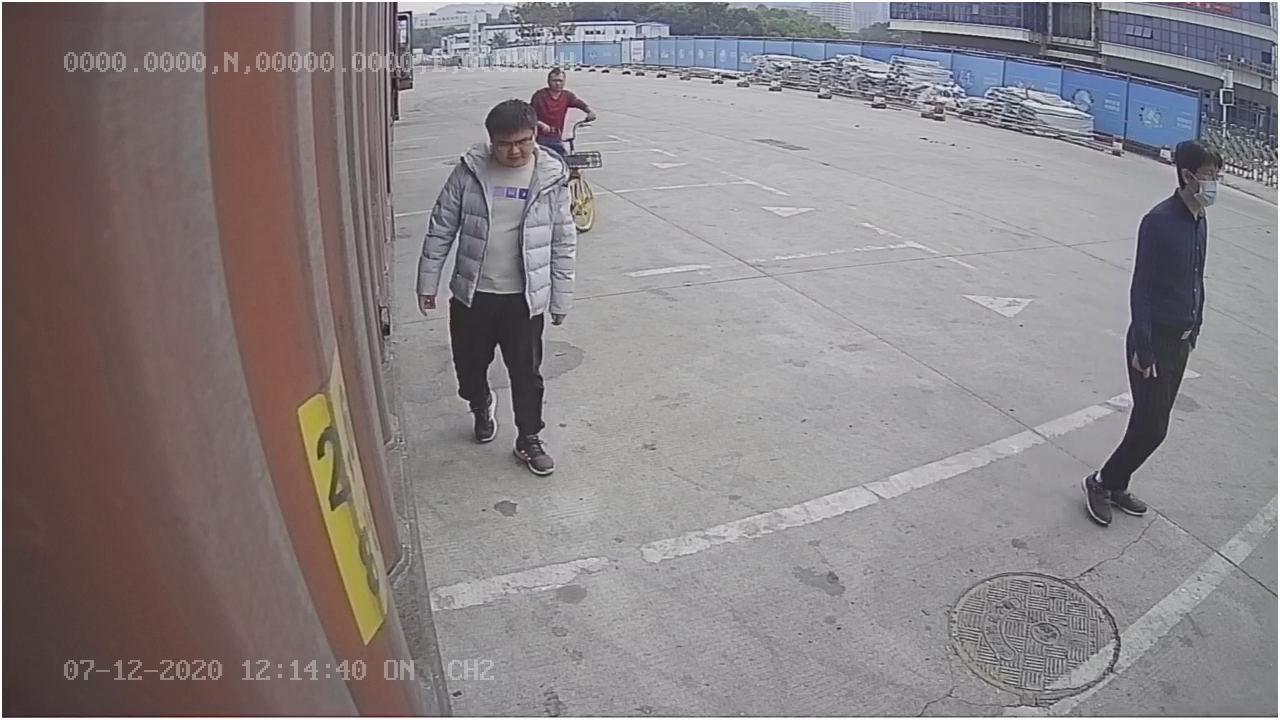person: (1080, 125, 1227, 538)
